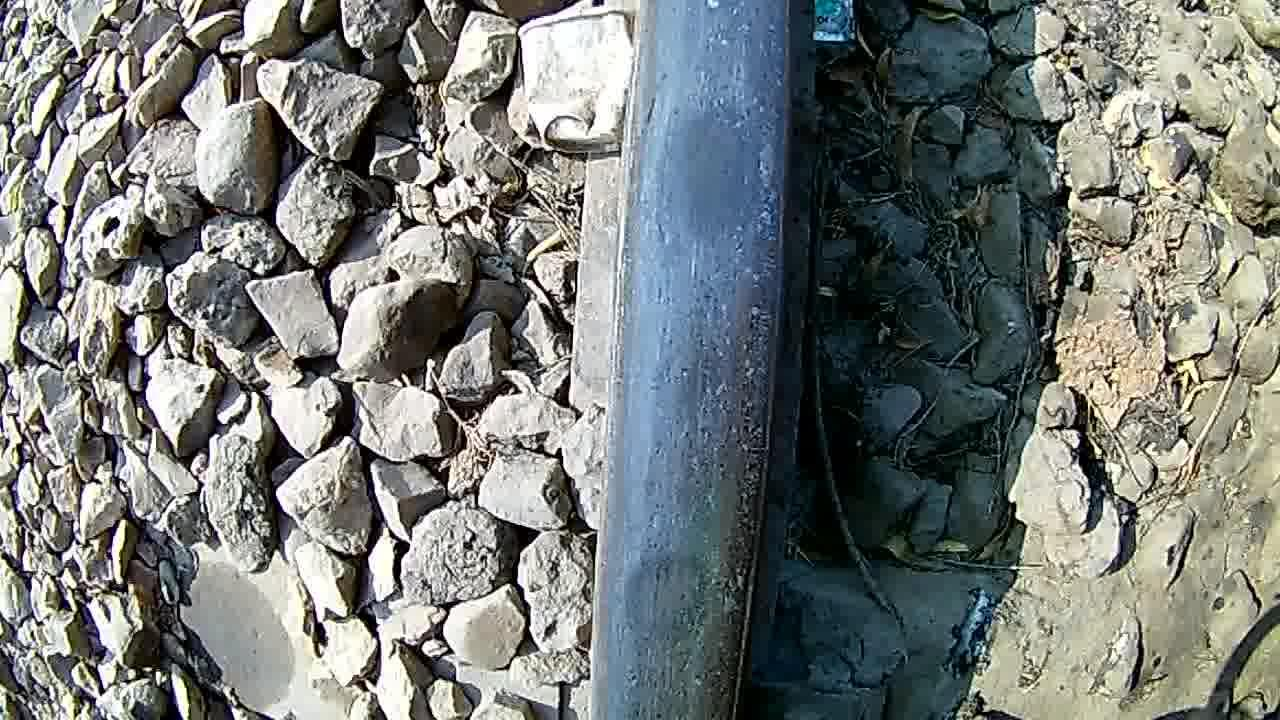bolt_missing: (620, 50, 799, 720)
